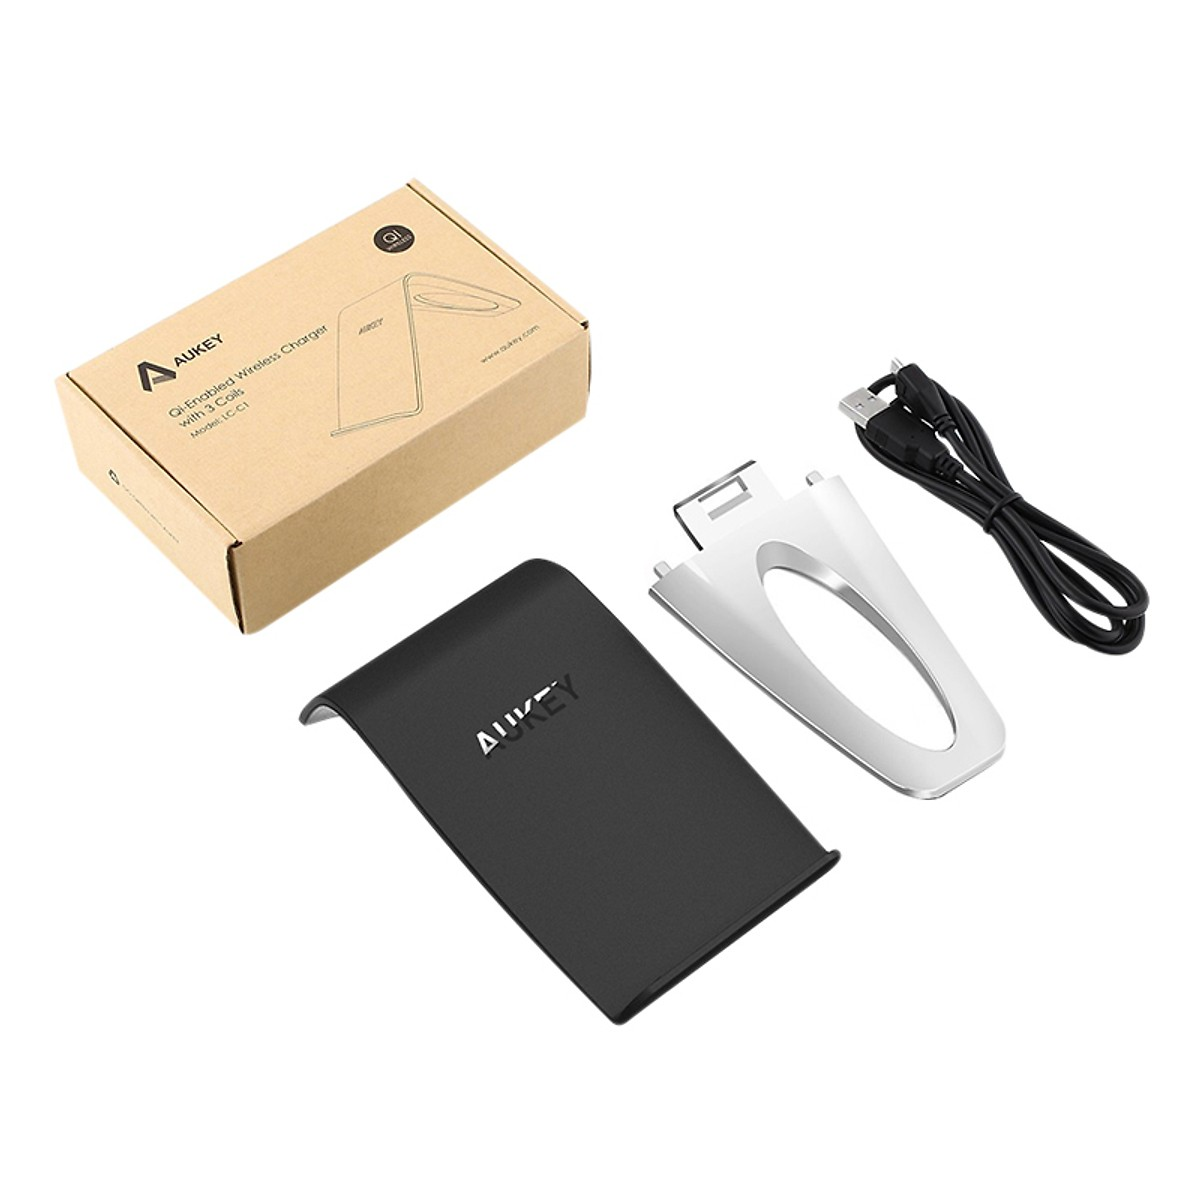Aukey: (432, 664, 646, 841), (120, 291, 265, 437)
